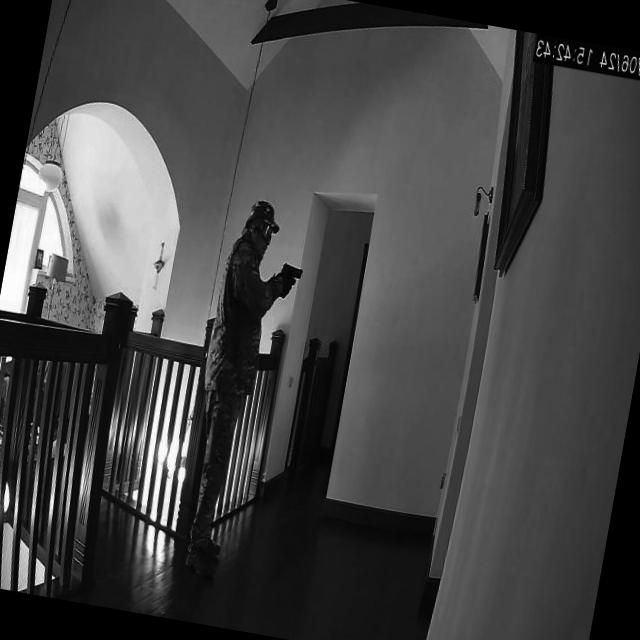gun: (278, 255, 304, 287)
person with a gun: (166, 193, 288, 580)
